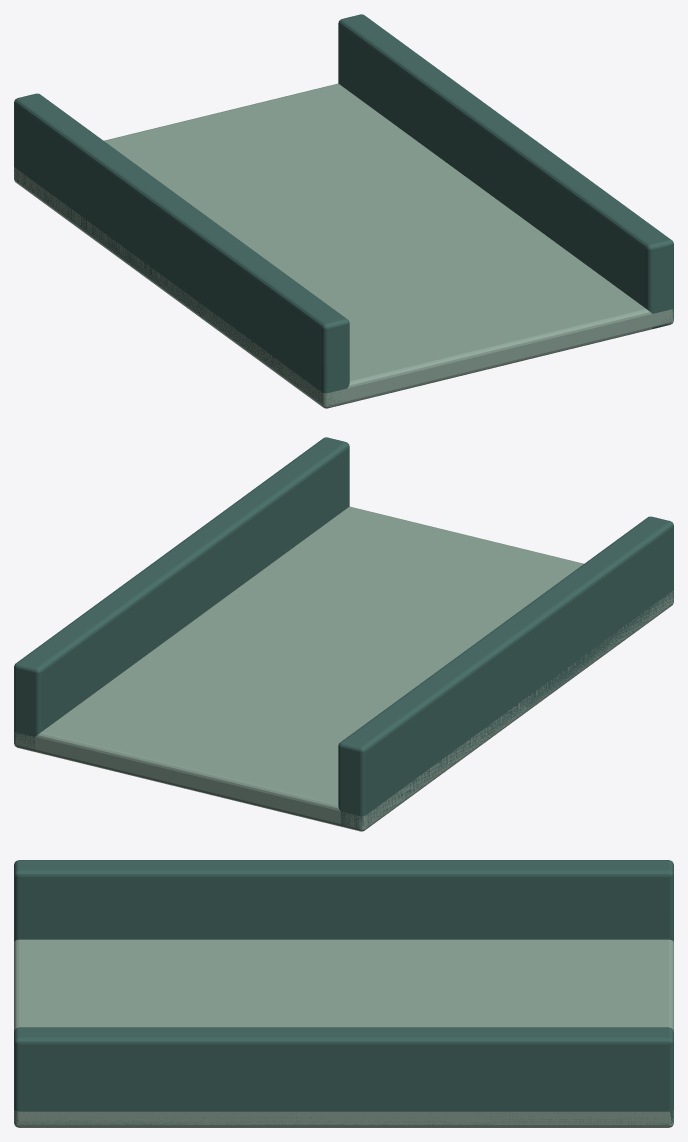
The model's file is diverter.glb.
3 views of the same model, one above another, from view 1: azimuth 30°, elevation 25°; view 2: azimuth 150°, elevation 25°; view 3: azimuth 270°, elevation 25° (orthographic). The views are drawn at different scales.
Parts seen in each view (by area): view 1: diverter; view 2: diverter; view 3: diverter.
Boxes of the visible parts, bbox=[...] form: diverter: bbox=[14, 14, 673, 408]; diverter: bbox=[14, 437, 673, 831]; diverter: bbox=[14, 860, 673, 1127].
Size of the model in its own units: 0.026 by 0.006 by 0.04.
